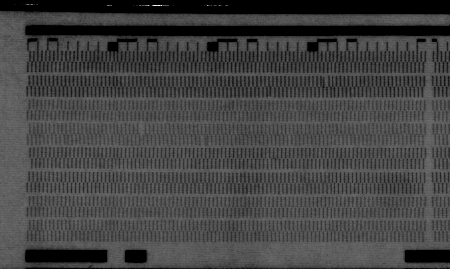Broken hole: (136, 123, 146, 135)
Oblique printing: (319, 75, 330, 90), (198, 135, 210, 148), (266, 87, 275, 100)
